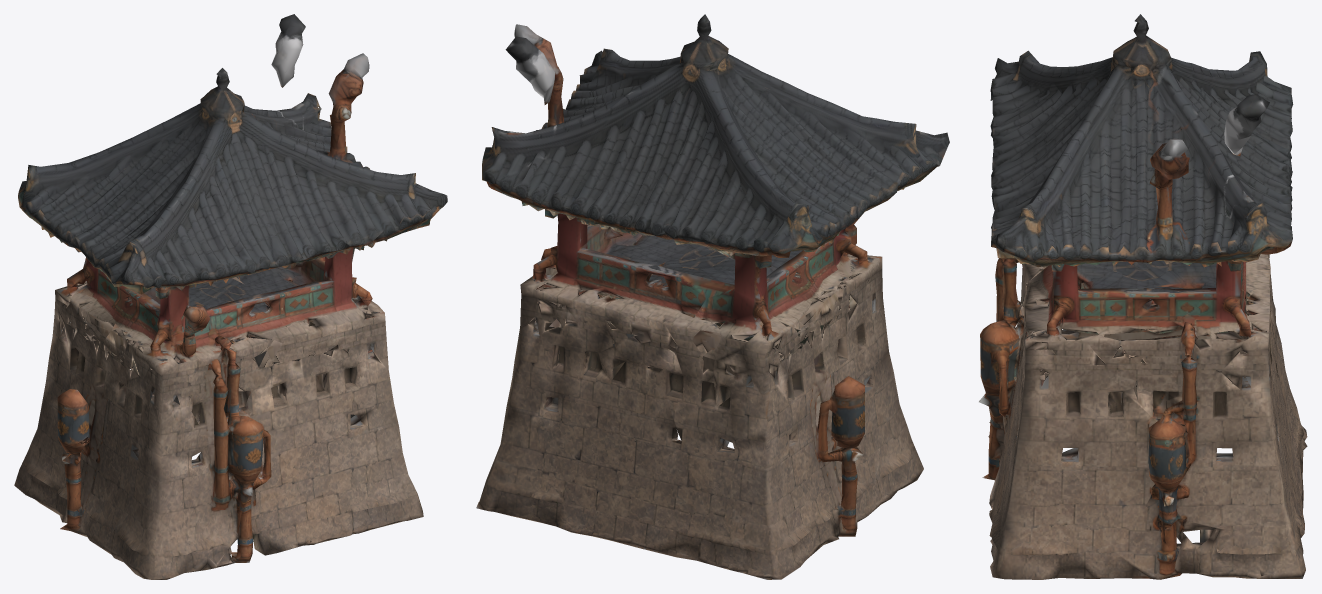
File: PR_Dongsipjagak.fbx
3 renders of one model, left to right at view 1: azimuth 30°, elevation 25°; view 2: azimuth 150°, elevation 25°; view 3: azimuth 270°, elevation 25°, orthographic. The views are drawn at different scales.
Visible parts, largest first — view 1: texture_mapping; view 2: texture_mapping; view 3: texture_mapping.
Part boxes in pixels (x1,y1,x2,y2): texture_mapping: [14, 14, 447, 579]; texture_mapping: [476, 14, 949, 579]; texture_mapping: [979, 14, 1307, 579].
Bounding box in the file's own units: 0.7927 × 0.6152 × 1.01.
1 material, 1 textured.
